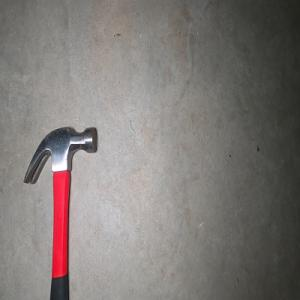Hammer: (22, 125, 97, 300)
